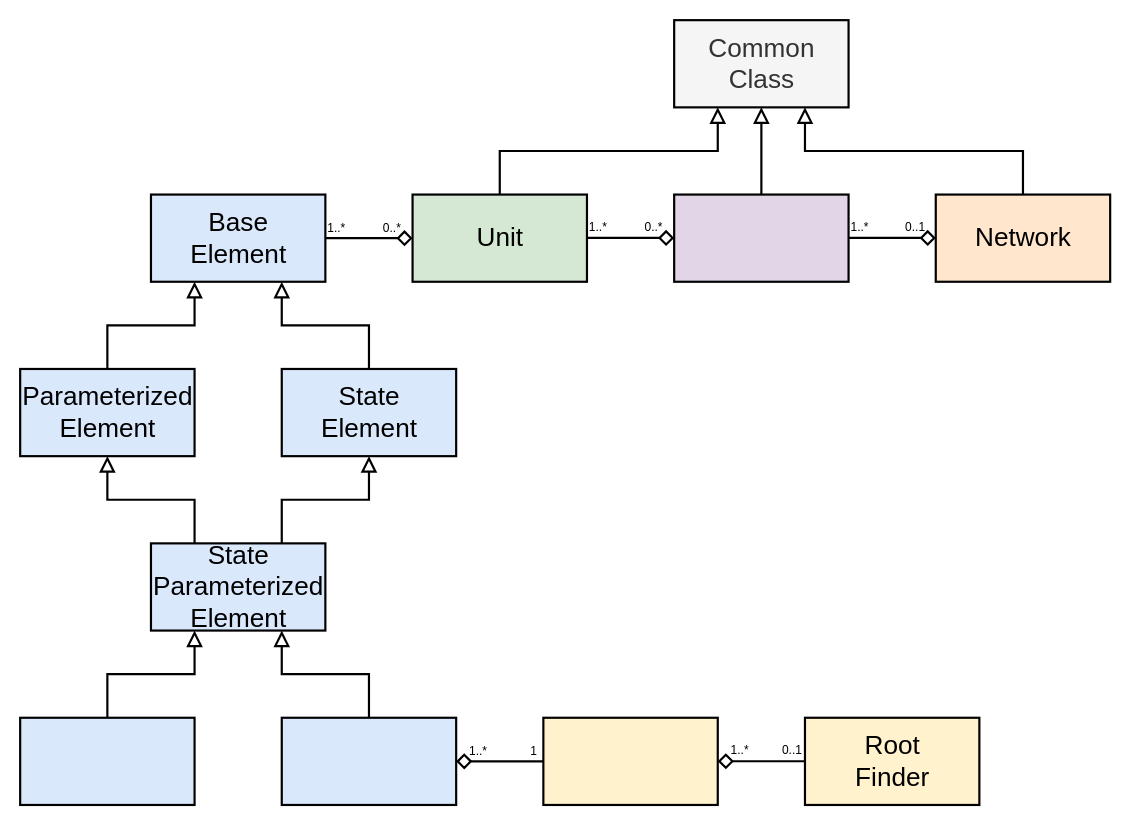
This 1129x824 diagram has some shape labels left out. Each missing label, with the centre of its shape:
"Lag Element" belongs at pixel 107 761.
"Node" belongs at pixel 761 237.
"Numerical approximator" belongs at pixel 630 761.
"ODEs Element" belongs at pixel 368 761.
